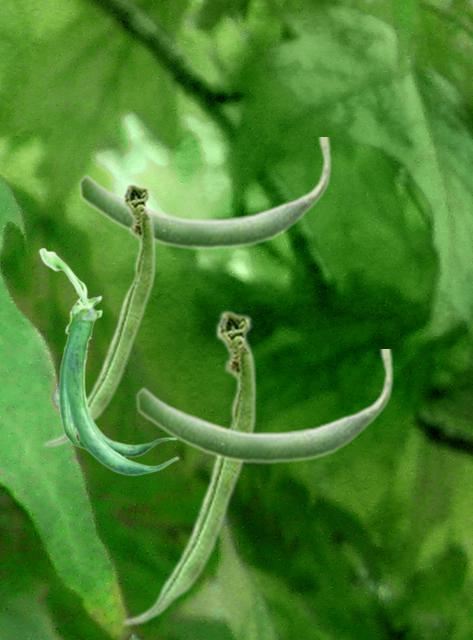french_bean: (121, 308, 256, 626), (38, 247, 178, 475), (42, 181, 155, 447), (135, 349, 393, 464), (78, 137, 331, 250)
